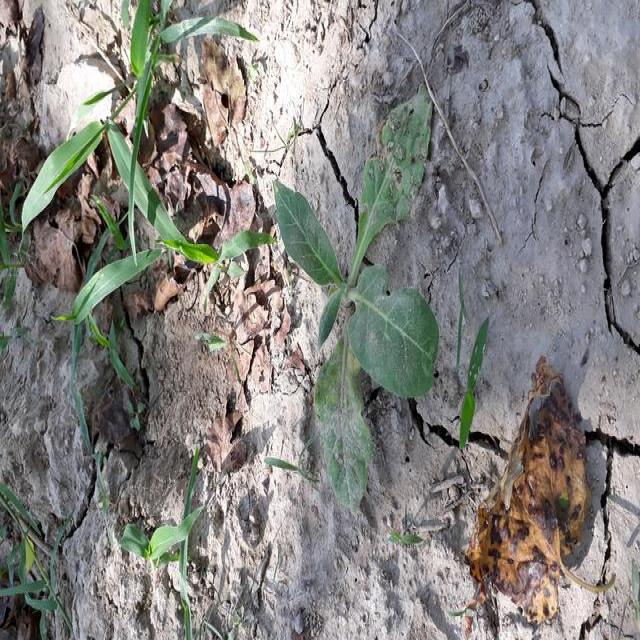crop: (274, 100, 446, 494)
